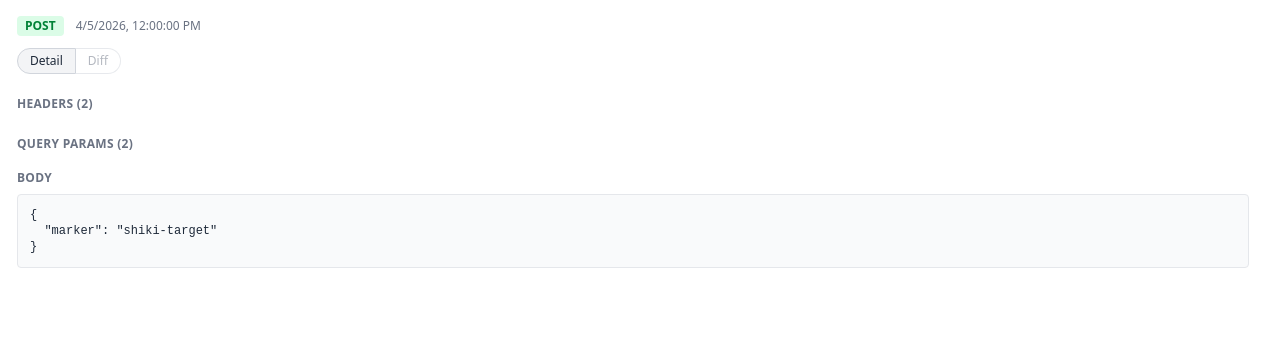
it: clicking query params toggle expands and shows param key-value pairs
Click the button "Query params (2)" at (75, 144), box [17,136,133,152]
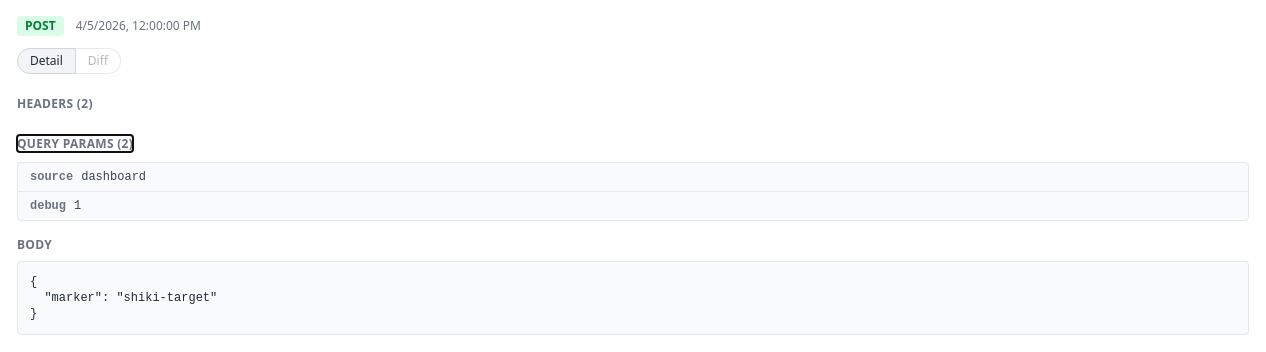
Check: the text "source" is shown, box [30,169,73,185]
Check: the text "dashboard" is shown, box [81,169,146,185]
Check: the text "debug" is shown, box [30,198,66,214]
